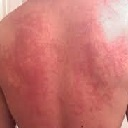Hives: (74, 35, 128, 110), (11, 33, 44, 89)
